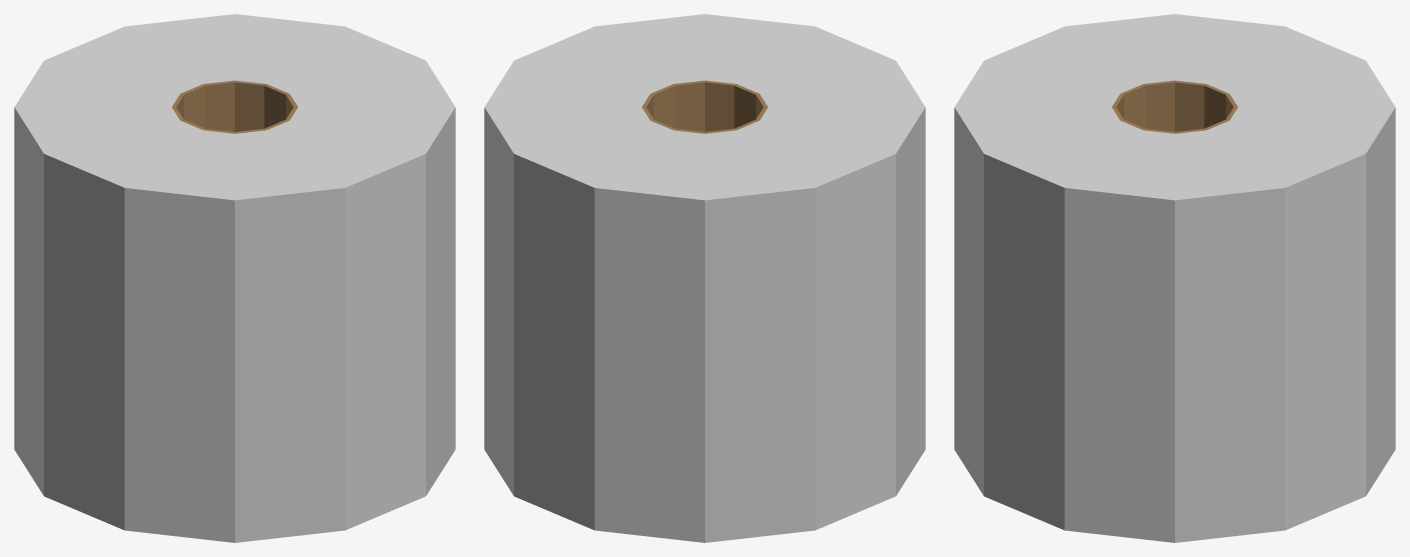
File: Toilet-Paper-1.fbx
3 views of the same model, side by side, from view 1: azimuth 30°, elevation 25°; view 2: azimuth 150°, elevation 25°; view 3: azimuth 270°, elevation 25° (orthographic).
Visible parts, largest first — view 1: ToiletPaper1; view 2: ToiletPaper1; view 3: ToiletPaper1.
Boxes of the visible parts, x1,y1,x2,y2 form: ToiletPaper1: (14, 14, 455, 542); ToiletPaper1: (484, 14, 925, 542); ToiletPaper1: (954, 14, 1395, 542).
Bounding box in the file's own units: 0.14 × 0.12 × 0.14.
